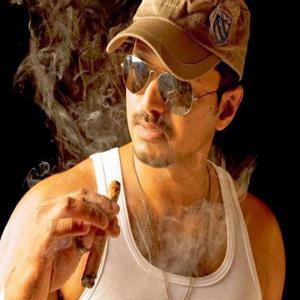cigarette: (81, 180, 122, 289)
